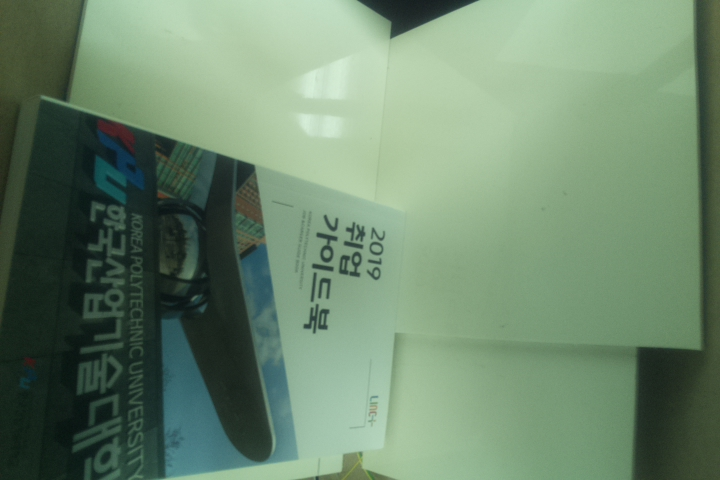book: (2, 92, 414, 480)
